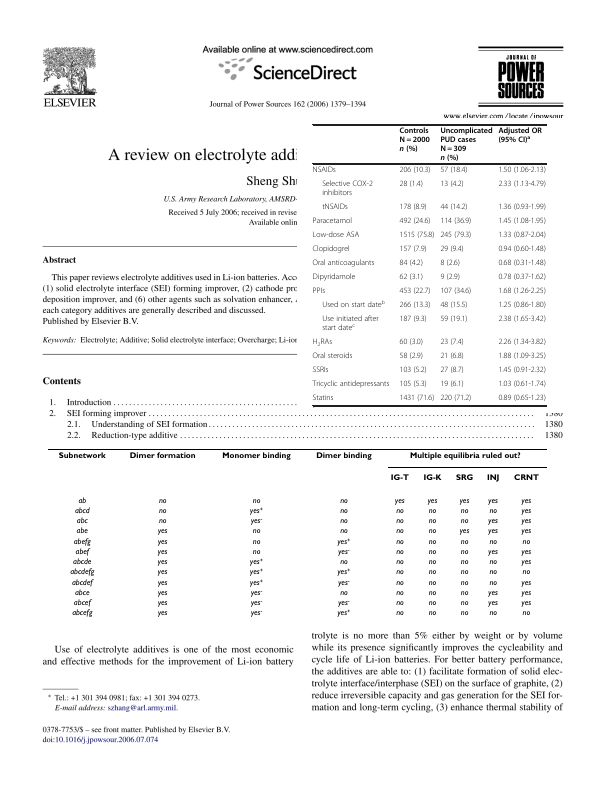borderless: (46, 447, 548, 626), (311, 123, 546, 405)
cell: (439, 127, 493, 163), (321, 315, 380, 334), (408, 452, 521, 461), (321, 180, 374, 199), (398, 127, 431, 154), (497, 127, 543, 145), (321, 299, 386, 311), (312, 380, 390, 390), (221, 452, 291, 461), (312, 259, 375, 269), (128, 452, 196, 461), (315, 452, 372, 461), (497, 166, 547, 176), (497, 180, 547, 190), (497, 203, 547, 213), (497, 217, 547, 227), (497, 231, 547, 241), (497, 245, 547, 255), (497, 259, 547, 269), (497, 273, 547, 283), (497, 287, 547, 297), (497, 301, 547, 311), (497, 315, 547, 325), (497, 338, 547, 348), (497, 352, 547, 362), (497, 366, 547, 376), (497, 380, 547, 390), (497, 394, 547, 404), (312, 231, 360, 241), (57, 452, 106, 461), (312, 273, 356, 283), (312, 217, 353, 227), (312, 352, 353, 362), (312, 245, 351, 255), (398, 231, 435, 241), (398, 394, 435, 404), (398, 166, 431, 176), (398, 217, 431, 227), (439, 217, 472, 227), (439, 231, 472, 241), (398, 287, 431, 297), (439, 287, 472, 297), (398, 301, 431, 311), (439, 394, 472, 404), (398, 203, 428, 213), (398, 245, 428, 255), (398, 315, 428, 325), (398, 366, 428, 376), (398, 380, 428, 390), (439, 166, 468, 176), (439, 203, 468, 213), (439, 301, 468, 311), (439, 315, 468, 325), (321, 203, 349, 213), (398, 180, 424, 190), (398, 259, 424, 269), (398, 273, 424, 283), (398, 338, 424, 348), (398, 352, 424, 362), (312, 166, 337, 176), (439, 180, 464, 190), (439, 245, 464, 255), (439, 338, 464, 348), (439, 352, 464, 362), (439, 366, 464, 376), (439, 380, 464, 390), (513, 474, 539, 483), (69, 568, 95, 577), (70, 578, 93, 588), (439, 259, 461, 269), (439, 273, 461, 283), (311, 338, 333, 348), (312, 394, 334, 404), (71, 609, 93, 618), (72, 537, 91, 547), (389, 474, 409, 483), (422, 474, 442, 483), (454, 474, 474, 483), (72, 558, 92, 567), (72, 599, 91, 608), (73, 506, 90, 516), (73, 588, 90, 598), (312, 366, 329, 376), (74, 547, 90, 557), (249, 506, 264, 516), (336, 537, 351, 547), (249, 578, 264, 588), (249, 588, 263, 598), (312, 287, 326, 297), (485, 474, 500, 483), (249, 558, 264, 567), (249, 568, 264, 577), (336, 568, 351, 577), (336, 609, 351, 618), (337, 547, 350, 557), (337, 578, 350, 588), (249, 517, 263, 526), (249, 599, 263, 608), (249, 609, 263, 618), (426, 496, 438, 506), (458, 496, 470, 506), (520, 496, 532, 506), (520, 506, 532, 516), (156, 537, 168, 547), (156, 547, 168, 557), (520, 547, 532, 557), (156, 578, 168, 588), (520, 578, 532, 588), (156, 588, 168, 598), (520, 588, 532, 598), (75, 517, 88, 526), (75, 527, 88, 536), (337, 599, 350, 608), (394, 496, 405, 506), (487, 496, 498, 506), (487, 547, 498, 557), (487, 588, 498, 598), (520, 517, 532, 526), (156, 527, 168, 536), (458, 527, 470, 536), (520, 527, 532, 536), (156, 558, 168, 567), (520, 558, 532, 567), (156, 568, 168, 577), (156, 599, 168, 608), (520, 599, 532, 608), (156, 609, 168, 618), (77, 496, 87, 506), (157, 496, 167, 506), (251, 496, 261, 506), (157, 506, 167, 516), (427, 506, 437, 516), (459, 506, 469, 516), (251, 537, 261, 547), (427, 537, 437, 547), (459, 537, 469, 547), (521, 537, 531, 547), (251, 547, 261, 557), (427, 547, 437, 557), (459, 547, 469, 557), (427, 578, 437, 588), (459, 578, 469, 588), (427, 588, 437, 598), (459, 588, 469, 598), (487, 517, 498, 526), (487, 527, 498, 536), (487, 599, 498, 608), (339, 496, 348, 506), (339, 506, 348, 516), (395, 506, 404, 516), (488, 506, 497, 516), (157, 517, 167, 526), (427, 517, 437, 526), (459, 517, 469, 526), (251, 527, 261, 536), (427, 527, 437, 536), (395, 537, 404, 547), (488, 537, 497, 547), (395, 547, 404, 557), (427, 558, 437, 567), (459, 558, 469, 567), (427, 568, 437, 577), (459, 568, 469, 577), (521, 568, 531, 577), (395, 578, 404, 588), (488, 578, 497, 588), (339, 588, 348, 598), (395, 588, 404, 598), (427, 599, 437, 608), (459, 599, 469, 608), (427, 609, 437, 618), (459, 609, 469, 618), (521, 609, 531, 618), (339, 517, 348, 526), (395, 517, 404, 526), (339, 527, 348, 536), (395, 527, 404, 536), (339, 558, 348, 567), (395, 558, 404, 567), (488, 558, 497, 567), (395, 568, 404, 577), (488, 568, 497, 577), (395, 599, 404, 608), (395, 609, 404, 618), (488, 609, 497, 618)
